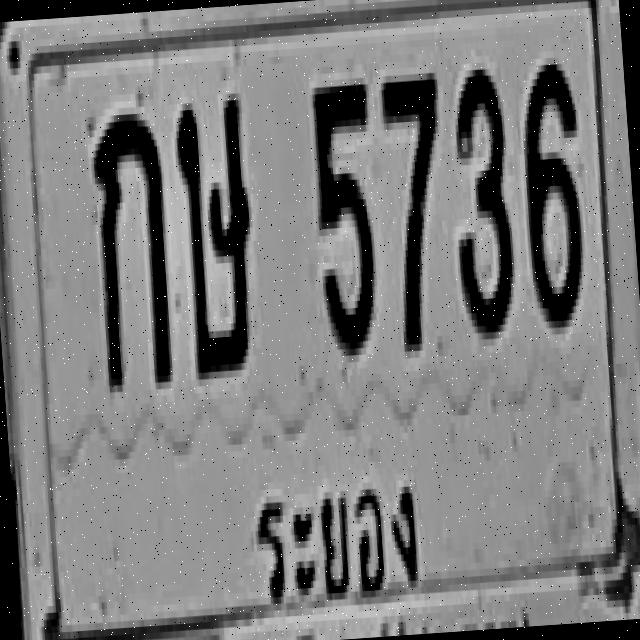10GorGai: (87, 102, 176, 389)
3: (444, 61, 518, 340)
48SorRueSi: (170, 89, 260, 376)
5: (308, 78, 384, 356)
6: (516, 56, 588, 329)
7: (378, 66, 454, 352)
Rayong: (236, 444, 435, 622)
